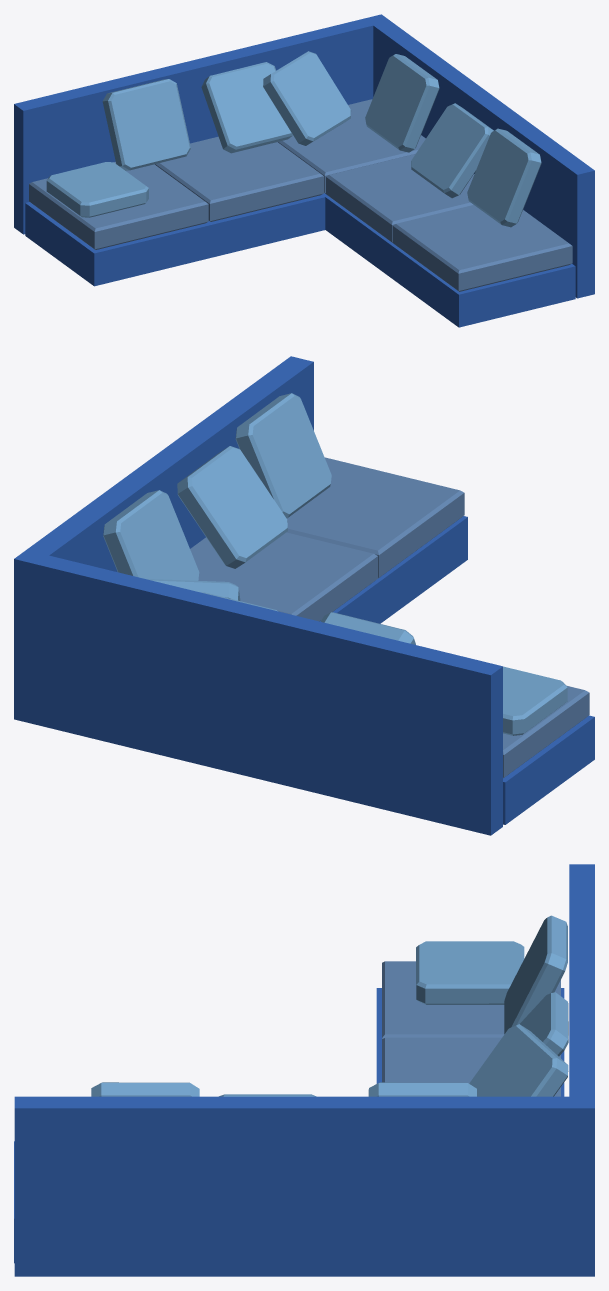
File: sofa.fbx
The picture shows the model from 3 angles, top to bottom: view 1: azimuth 30°, elevation 25°; view 2: azimuth 150°, elevation 25°; view 3: azimuth 270°, elevation 25°; orthographic projection. The views are drawn at different scales.
Visible parts, largest first — view 1: Box251, Box250, Box256, Box253, Box252, Box255, Cylinder103, Cylinder105, Cylinder106, Cylinder109, Cylinder107, Cylinder108 (+2 smaller); view 2: Box251, Box256, Box250, Box255, Cylinder108, Cylinder109, Cylinder107, Cylinder104, Box252, Cylinder103, Cylinder106; view 3: Box251, Cylinder104, Box252, Box253, Cylinder106, Cylinder103, Cylinder105, Cylinder107, Cylinder109, Box250.
Part boxes in pixels (x1,y1,x2,y2): Box251: (14,14,594,298); Box250: (25,193,575,327); Box256: (392,205,572,291); Box253: (155,136,323,221); Box252: (29,162,208,249); Box255: (326,154,474,242); Cylinder103: (102,79,190,170); Cylinder105: (201,62,292,153); Cylinder106: (263,51,351,145); Cylinder109: (467,128,541,227); Cylinder107: (365,54,439,152); Cylinder108: (411,103,493,198); Box251: (14,356,502,835); Box256: (286,457,464,578); Box250: (320,516,594,824); Box255: (190,532,377,621); Cylinder108: (177,446,287,568); Cylinder109: (235,393,331,518); Cylinder107: (103,490,199,580); Cylinder104: (503,666,567,735); Box252: (503,685,589,778); Cylinder103: (320,612,415,644); Cylinder106: (146,579,240,600); Box251: (14,864,594,1276); Cylinder104: (416,941,524,1004); Box252: (382,961,560,1038); Box253: (382,1037,560,1096); Cylinder106: (469,1024,568,1096); Cylinder103: (504,915,567,1033); Cylinder105: (520,992,568,1056); Cylinder107: (368,1082,476,1096); Cylinder109: (91,1082,199,1096); Box250: (14,988,564,1263).
Size of the model in its own units: 355 by 117 by 357.
1 material, 1 textured.
